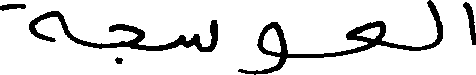ا: (465, 0, 474, 45)
ة: (0, 1, 66, 42)
ج: (109, 22, 142, 64)
س: (180, 17, 216, 52)
ع: (346, 19, 385, 55)
ل: (426, 0, 441, 51)
و: (239, 20, 285, 74)
